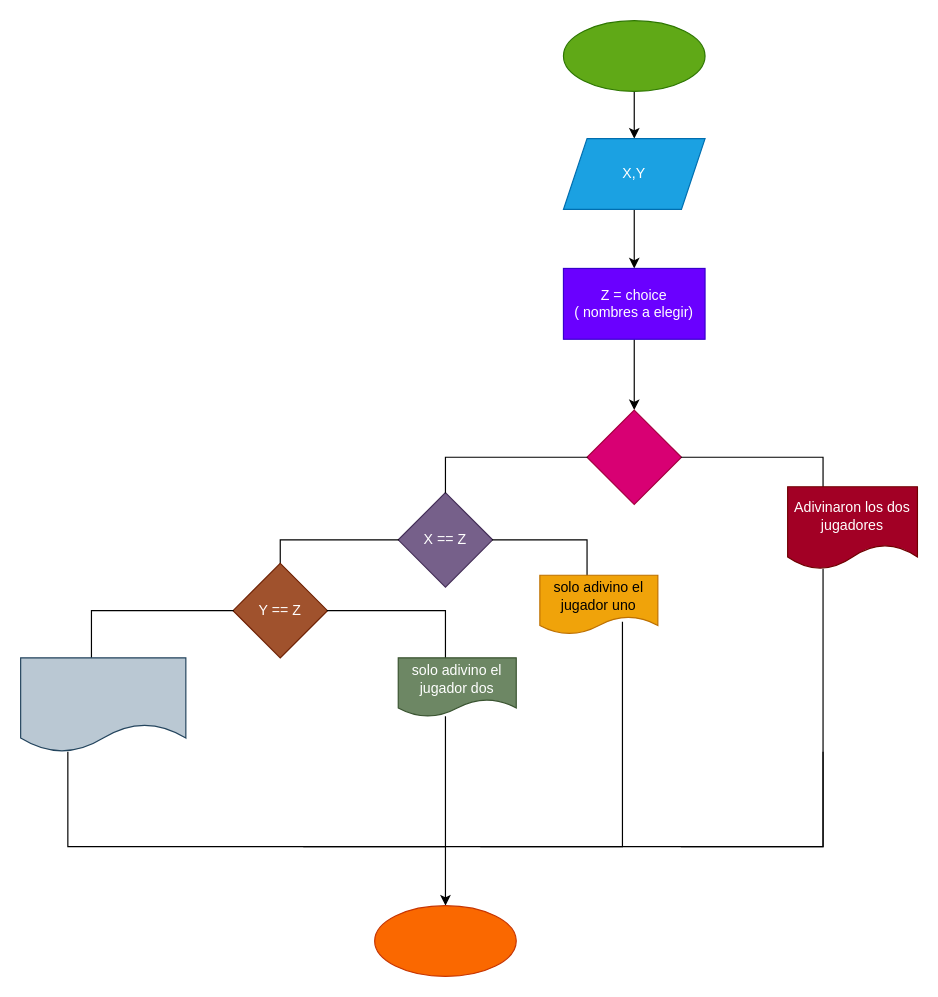
The diagram is 938 pixels wide and 997 high, and some of its shapes have lost their labels. Here are the shapes that lost their labels. From the top down, the centre of each, then its label:
At pixel 633 55: "INICIO".
At pixel 633 456: "X , Y == Z".
At pixel 102 704: "ninguno de los dos jugasores adivino, el nombre a elegir era z".
At pixel 444 940: "FIN".
